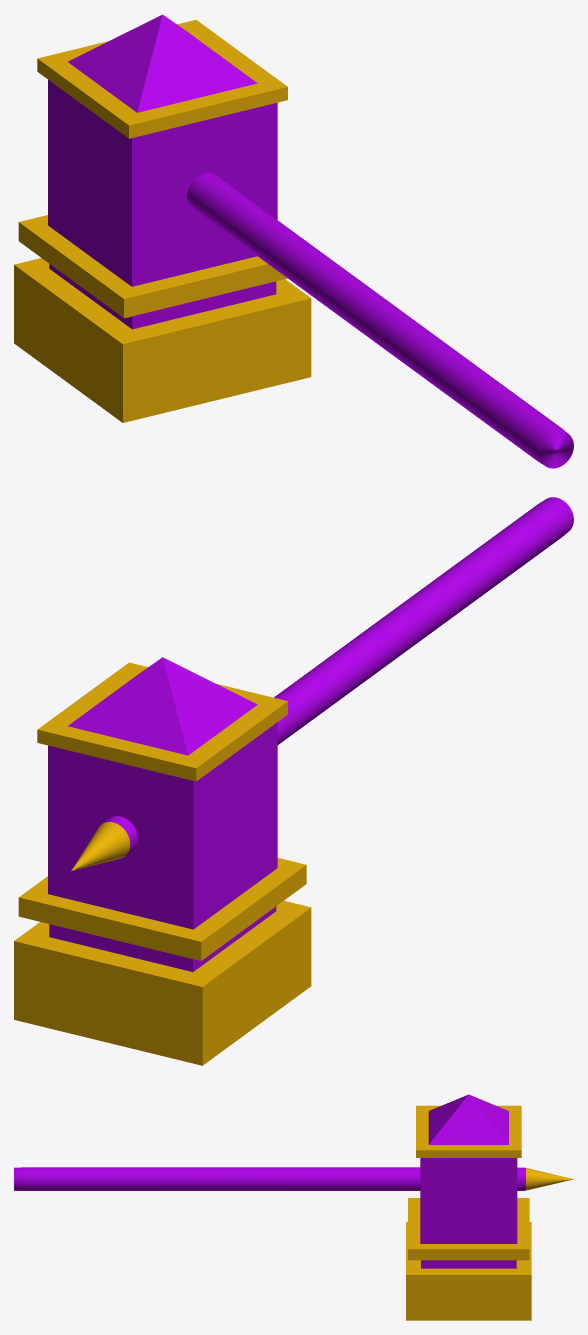
Rendered from royal hammer new.fbx.
The picture shows the model from 3 angles, top to bottom: view 1: azimuth 30°, elevation 25°; view 2: azimuth 150°, elevation 25°; view 3: azimuth 270°, elevation 25°; orthographic projection. The views are drawn at different scales.
Visible parts, largest first — view 1: Cube, Cylinder; view 2: Cube, Cylinder; view 3: Cube, Cylinder.
Part boxes in pixels (x1,y1,x2,y2): Cube: (14,14,311,422); Cylinder: (187,173,573,468); Cube: (14,657,311,1065); Cylinder: (71,497,573,871); Cube: (406,1094,531,1320); Cylinder: (14,1167,573,1190).
Bounding box in the file's own units: 133 × 233 × 594.
